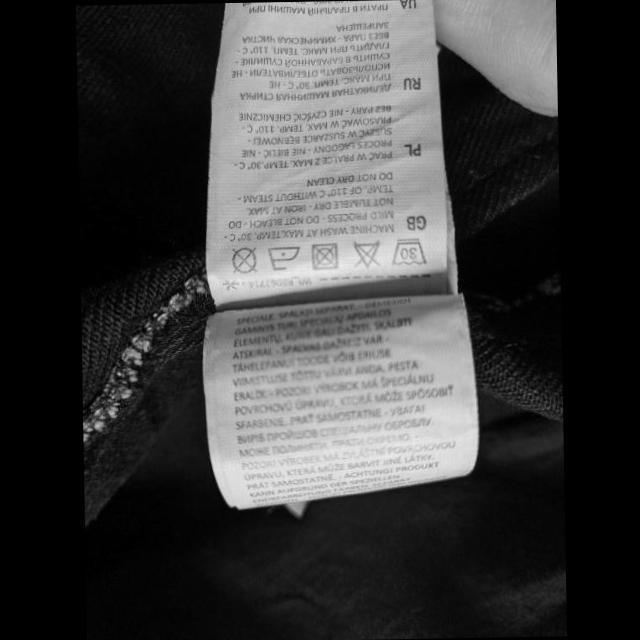30C: (388, 234, 428, 268)
DN_bleach: (348, 235, 382, 269)
DN_dry_clean: (228, 244, 258, 275)
DN_tumble_dry: (308, 238, 338, 272)
iron_low: (264, 242, 302, 272)
